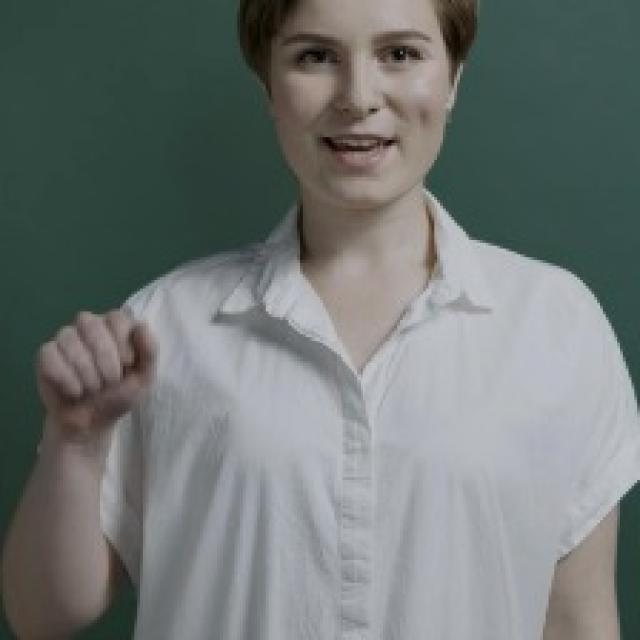yes: (28, 304, 163, 424)
